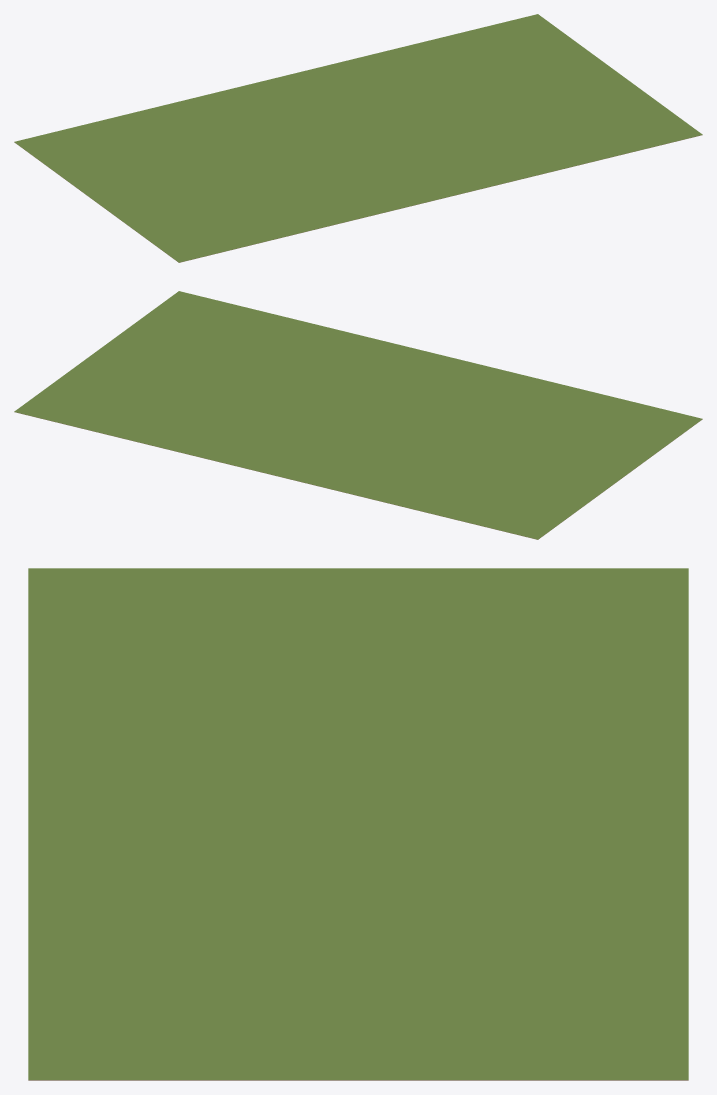
The model's file is region_4_4.glb.
3 renders of one model, top to bottom at view 1: azimuth 30°, elevation 25°; view 2: azimuth 150°, elevation 25°; view 3: azimuth 270°, elevation 25°, orthographic. The views are drawn at different scales.
Parts seen in each view (by area): view 1: OD_Meadow.041, OD_Ground.041; view 2: OD_Meadow.041, OD_Ground.041; view 3: OD_Meadow.041.
Part boxes in pixels (<box>): OD_Meadow.041: <box>14,14,702,262</box>; OD_Ground.041: <box>14,135,702,262</box>; OD_Meadow.041: <box>14,291,702,539</box>; OD_Ground.041: <box>14,412,702,539</box>; OD_Meadow.041: <box>28,568,688,1079</box>.
Size of the model in its own units: 9.12 by 0.00518 by 4.98.
